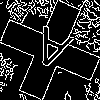A: (25, 25, 75, 81)
